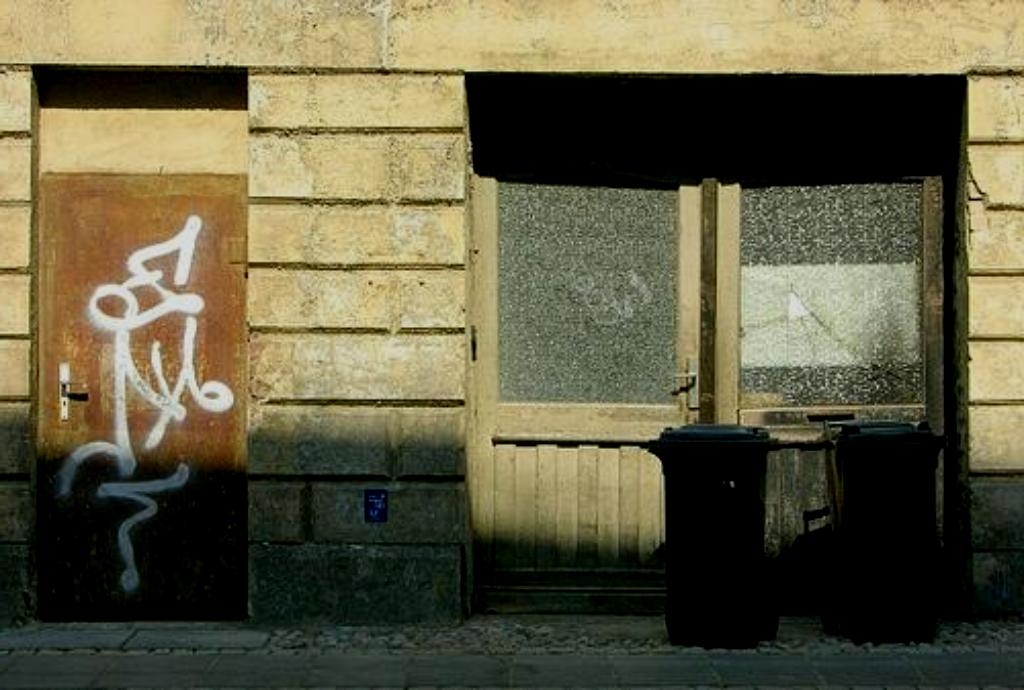dustbin: (639, 410, 772, 651), (816, 425, 939, 645)
